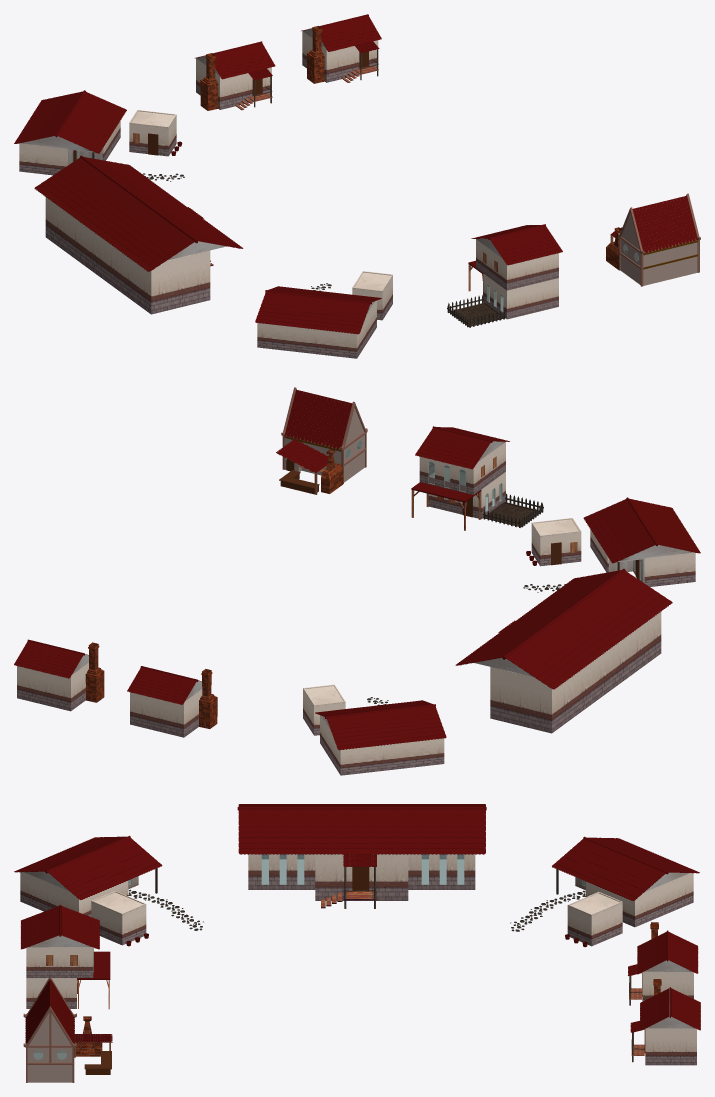
File: koy.fbx
3 renders of one model, top to bottom at view 1: azimuth 30°, elevation 25°; view 2: azimuth 150°, elevation 25°; view 3: azimuth 270°, elevation 25°, orthographic. The views are drawn at different scales.
Parts seen in each view (by area): view 1: large_bina, ev3_large, ev4_large, ev5_double, oven, ev1_small, ev2_small; view 2: large_bina, ev4_large, ev3_large, ev5_double, oven, ev1_small, ev2_small; view 3: large_bina, ev3_large, ev4_large, ev5_double, oven, ev1_small, ev2_small.
Boxes of the visible parts, left/top/right/bottom form: large_bina: left=34, top=155, right=243, bottom=314; ev3_large: left=14, top=90, right=184, bottom=181; ev4_large: left=255, top=271, right=392, bottom=358; ev5_double: left=447, top=224, right=562, bottom=327; oven: left=606, top=193, right=700, bottom=286; ev1_small: left=301, top=14, right=381, bottom=83; ev2_small: left=194, top=41, right=275, bottom=110; large_bina: left=455, top=568, right=672, bottom=733; ev4_large: left=523, top=497, right=700, bottom=592; ev3_large: left=303, top=684, right=446, bottom=775; ev5_double: left=411, top=426, right=543, bottom=530; oven: left=276, top=387, right=367, bottom=494; ev1_small: left=14, top=639, right=104, bottom=711; ev2_small: left=127, top=666, right=217, bottom=737; large_bina: left=237, top=804, right=486, bottom=908; ev3_large: left=510, top=836, right=699, bottom=947; ev4_large: left=14, top=835, right=203, bottom=946; ev5_double: left=20, top=904, right=110, bottom=1009; oven: left=23, top=976, right=112, bottom=1082; ev1_small: left=630, top=979, right=700, bottom=1065; ev2_small: left=628, top=922, right=698, bottom=1005.
Bounding box in the file's own units: 3329 × 561 × 4066.
